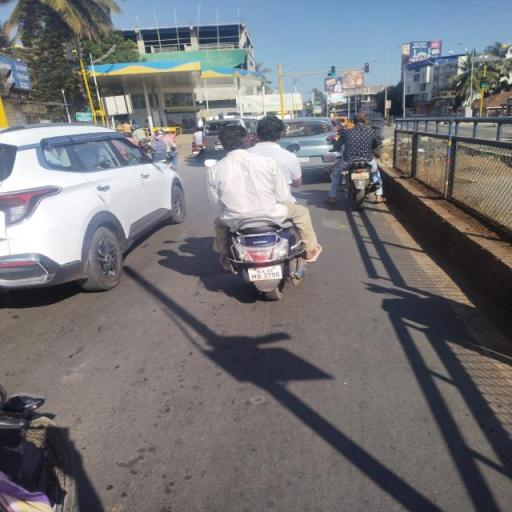bike: (194, 112, 330, 303)
numberplate: (245, 264, 284, 281)
withouthelmet: (220, 124, 248, 149), (256, 117, 284, 141)
